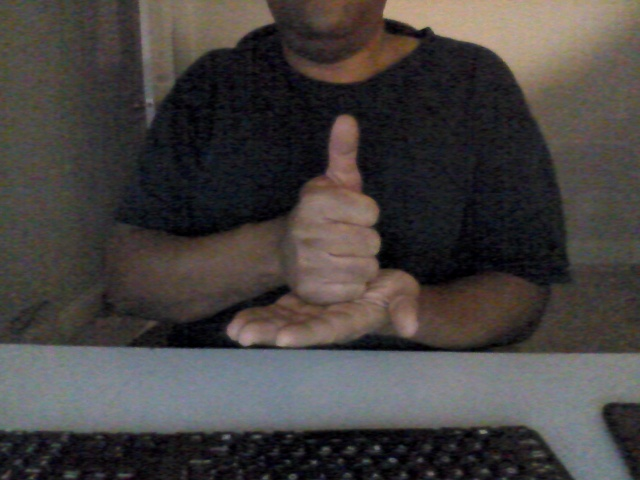help: (224, 110, 431, 357)
